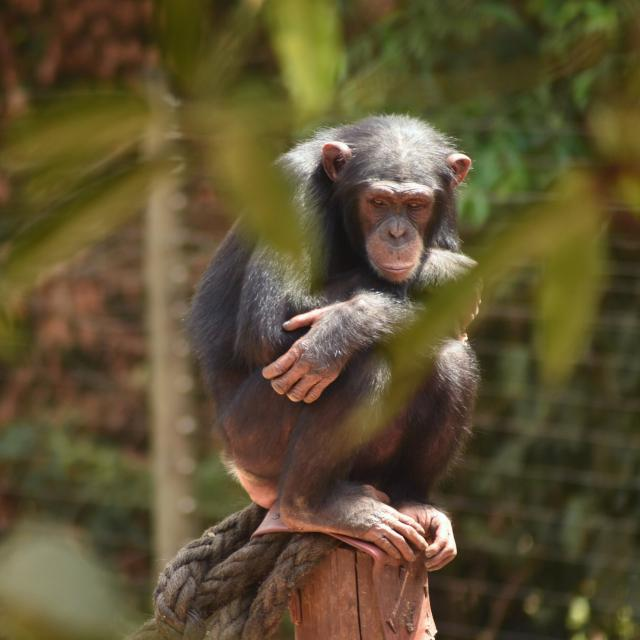chimpanzee: (190, 115, 477, 568)
